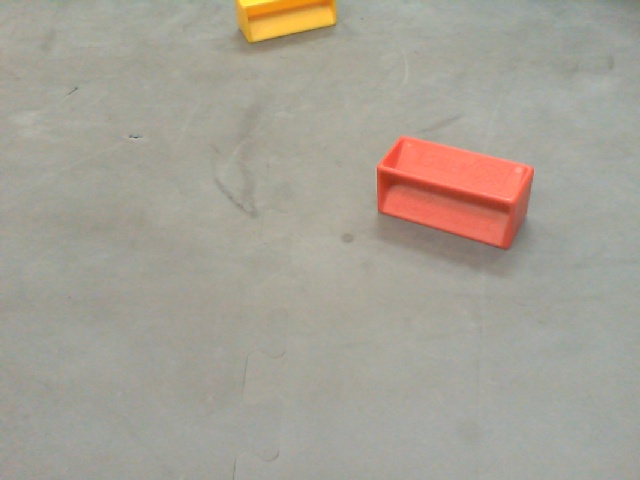RedSample: (375, 134, 537, 249)
YellowSample: (233, 1, 339, 42)
